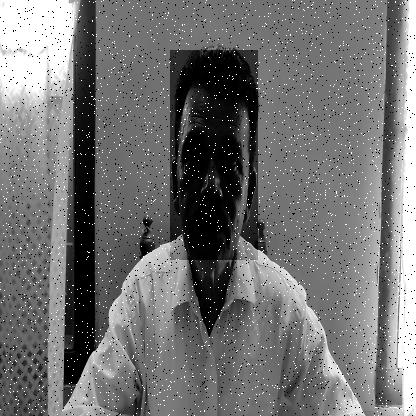Normal: (170, 51, 258, 260)
